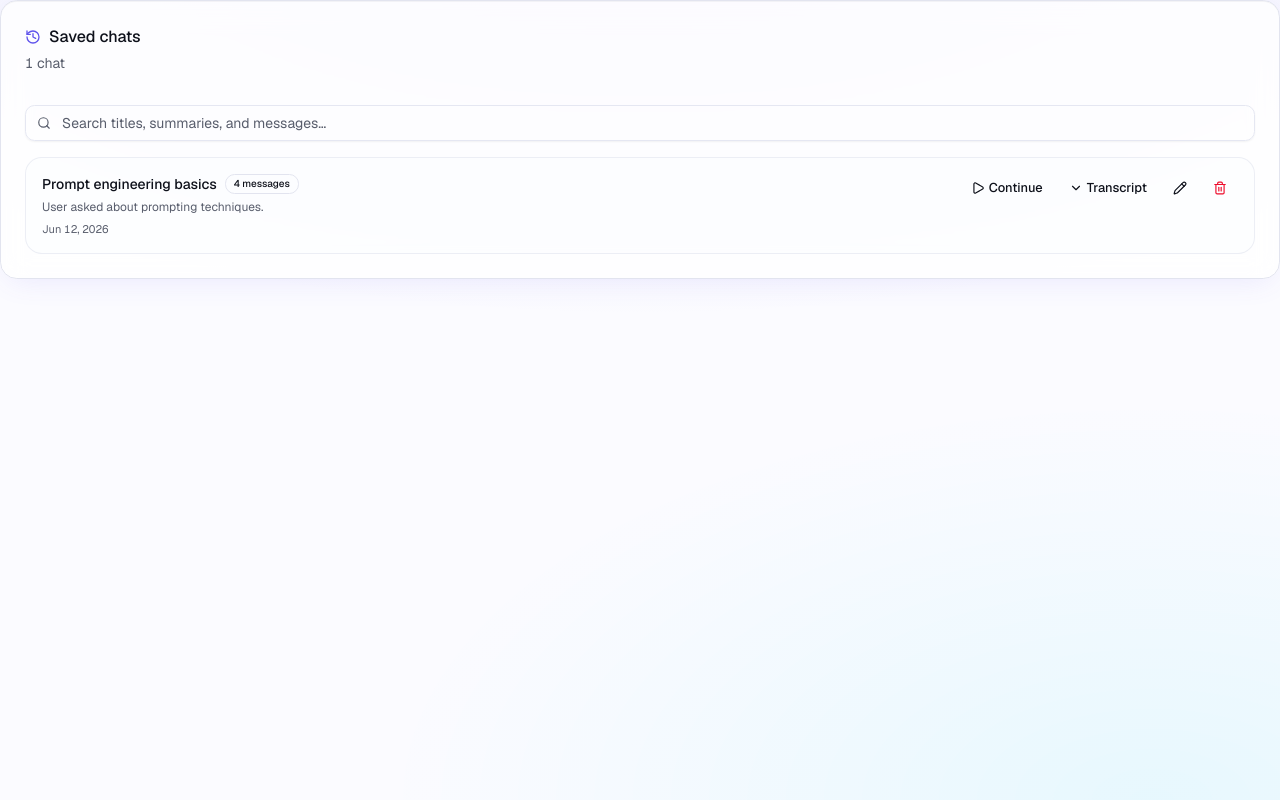
Test: <ChatsList /> › escape cancels rename without a PATCH
Check: the text "Prompt engineering basics" is shown, box top-left (42, 174), bottom-right (217, 194)
Click the button with test id "chat-rename-button" at (1180, 188), box top-left (1162, 174), bottom-right (1198, 202)
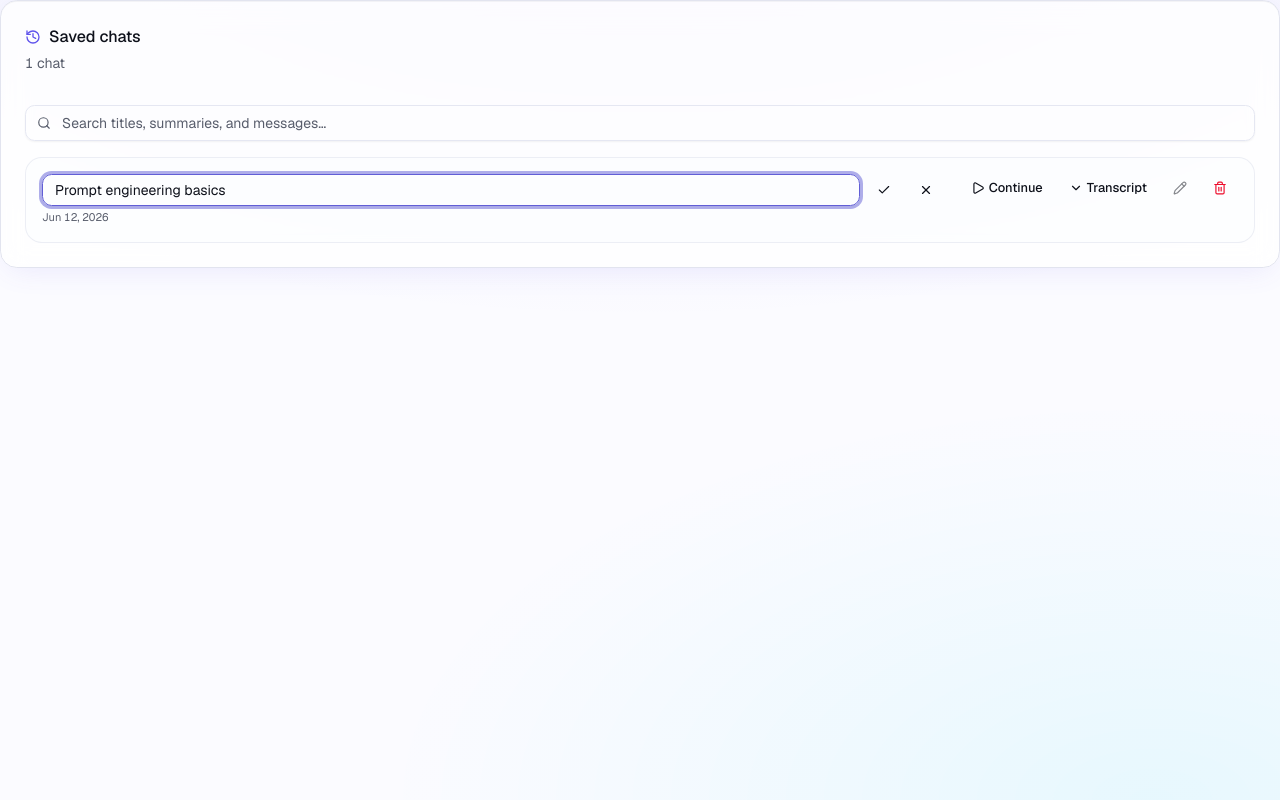
Press Escape
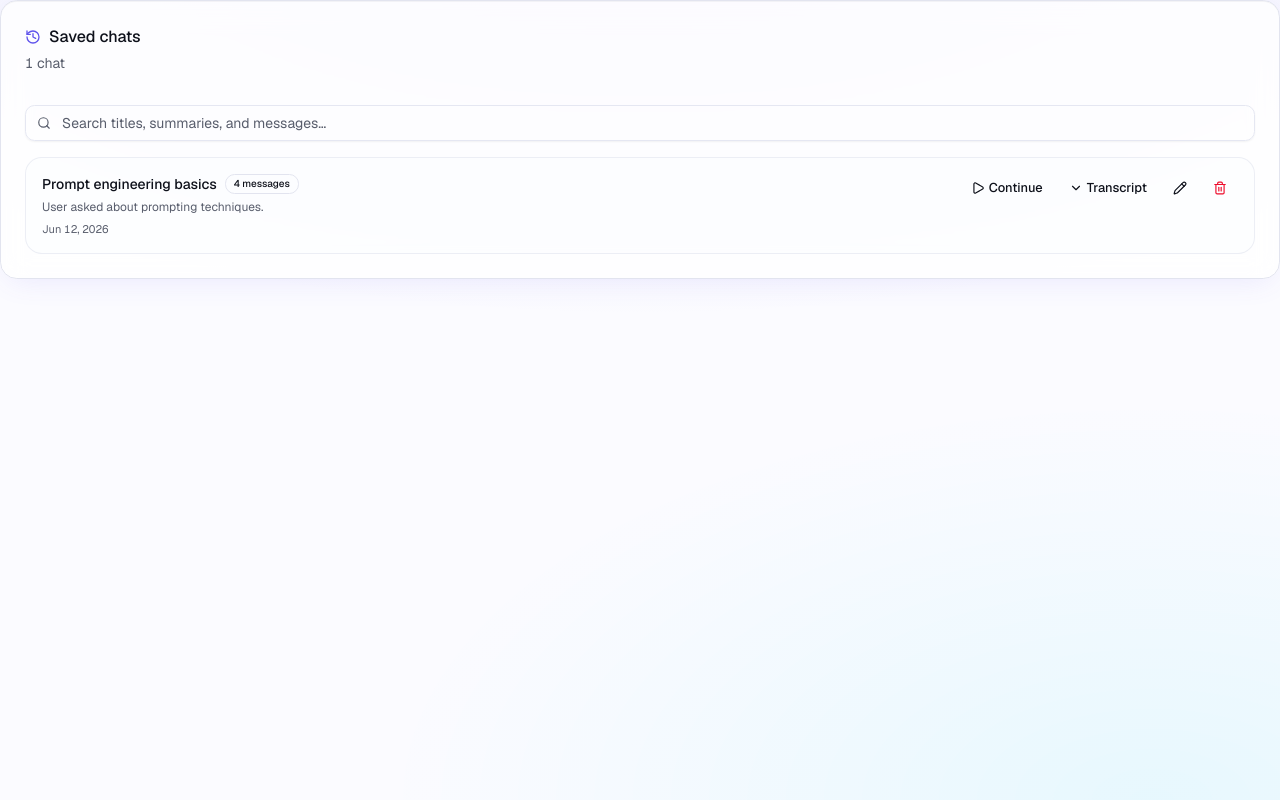
Check: the field with test id "chat-rename-input" is gone
